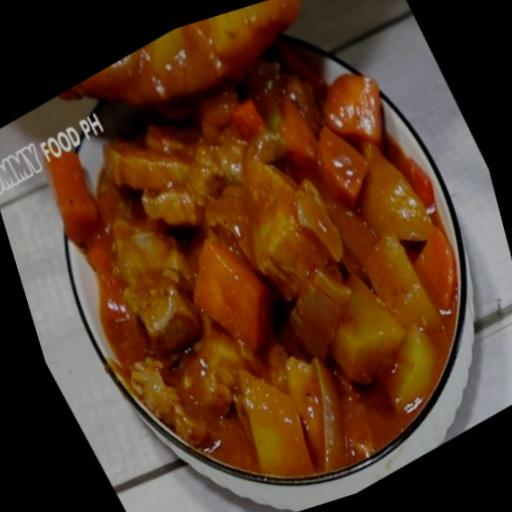pork caldereta: (57, 0, 458, 478)
